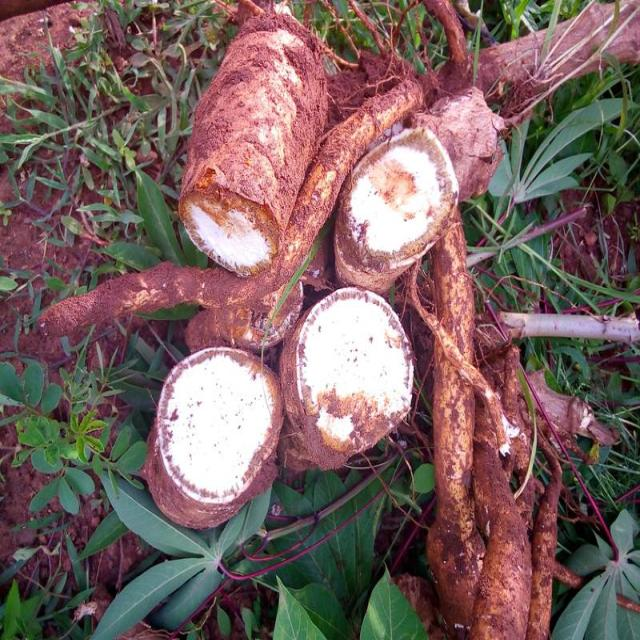cassava leaf: (178, 11, 330, 276), (143, 345, 285, 530)
